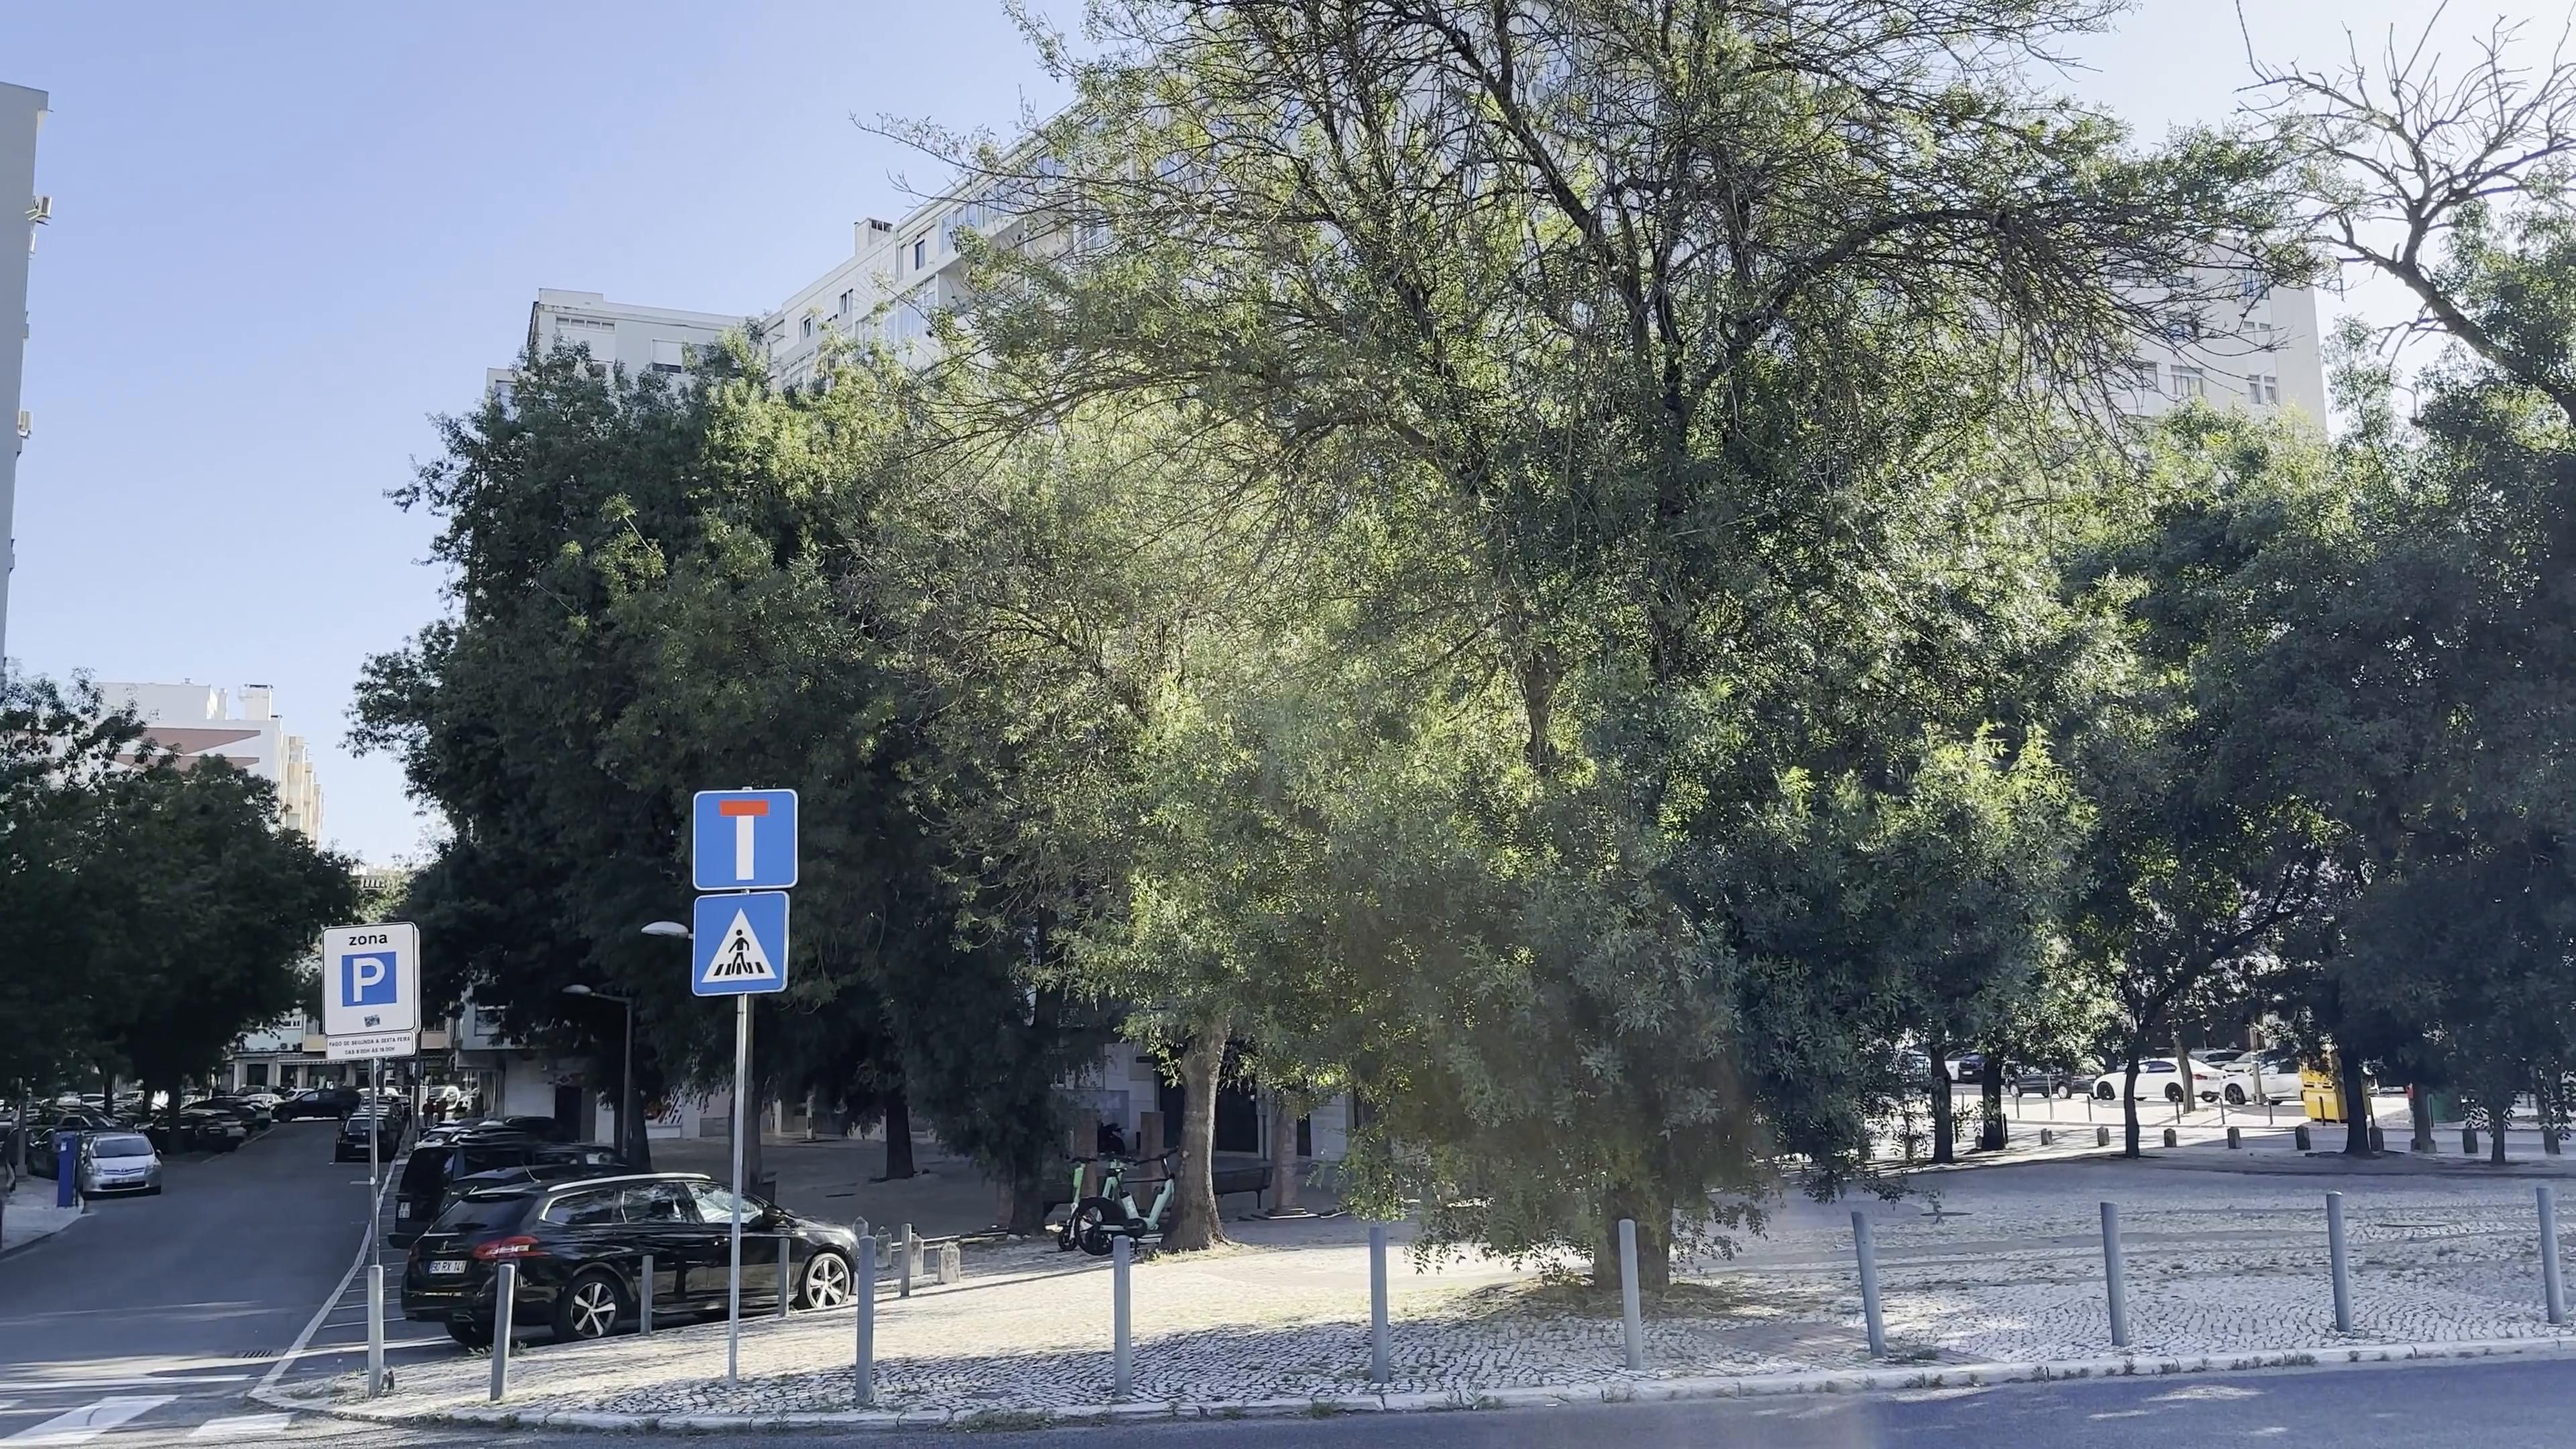via publica sem saida: (688, 789, 801, 874)
zona de estacionamento autorizado: (322, 918, 423, 1033)
